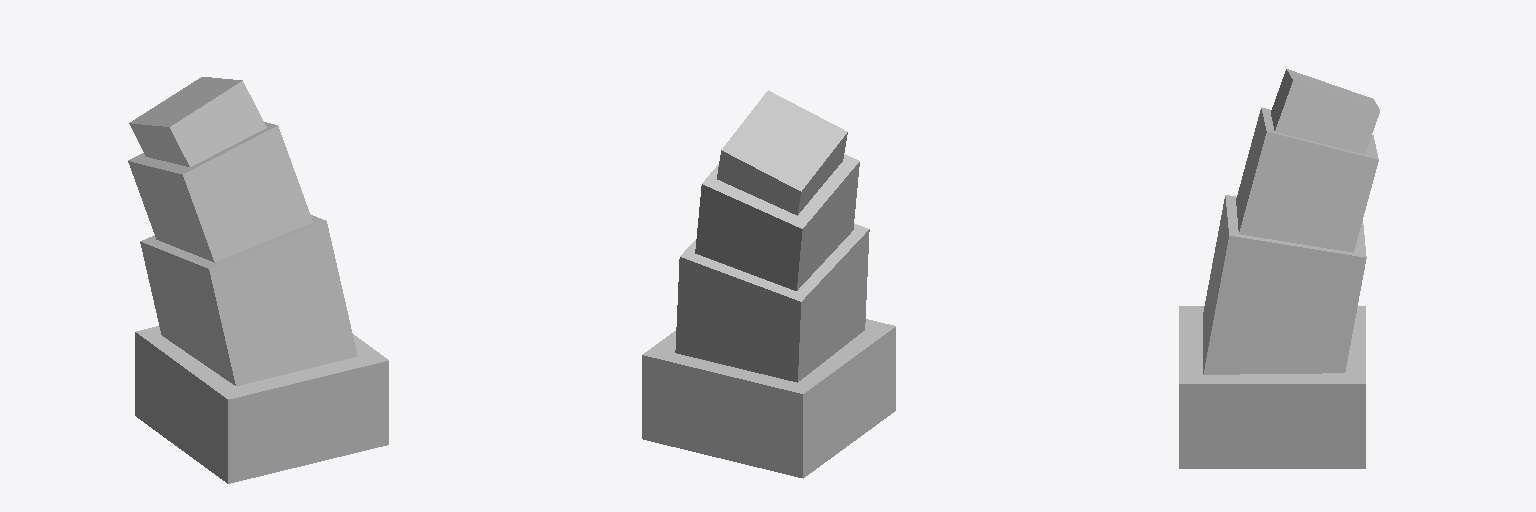
The model's file is pillar_nw.obj.
The picture shows the model from 3 angles: view 1: azimuth 30°, elevation 25°; view 2: azimuth 150°, elevation 25°; view 3: azimuth 270°, elevation 25°; orthographic projection.
Visible parts, largest first — view 1: base, second, third, top; view 2: base, second, third, top; view 3: second, base, third, top.
Part boxes in pixels (x1,y1,x2,y2): base: (135, 326, 388, 483); second: (140, 214, 357, 385); third: (128, 122, 312, 262); top: (129, 77, 266, 166); base: (642, 319, 895, 478); second: (675, 223, 869, 382); third: (695, 154, 859, 290); top: (717, 90, 847, 215); second: (1203, 195, 1366, 374); base: (1179, 306, 1365, 468); third: (1236, 107, 1378, 252); top: (1271, 69, 1379, 153).
Size of the model in its own units: 1.03 by 2.04 by 1.08.